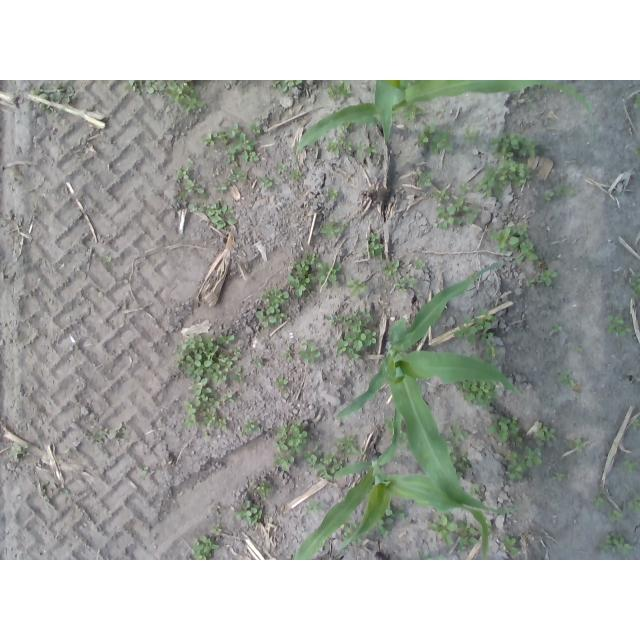Maize: (336, 263, 545, 514), (294, 408, 490, 561), (296, 80, 596, 170)
Weeds: (173, 334, 243, 430), (461, 133, 538, 196), (323, 309, 377, 360), (455, 308, 500, 356), (490, 224, 539, 263), (437, 196, 482, 230), (187, 200, 237, 229), (255, 287, 289, 327), (166, 80, 206, 112), (288, 252, 317, 296), (484, 416, 524, 443), (462, 380, 497, 409), (427, 514, 457, 546), (39, 85, 75, 111), (228, 133, 259, 163), (275, 424, 308, 451), (598, 532, 633, 557), (319, 451, 342, 481), (237, 500, 264, 525), (192, 536, 220, 560), (316, 262, 342, 283), (431, 131, 454, 154), (299, 340, 322, 363), (607, 316, 632, 337), (184, 178, 207, 198), (327, 81, 352, 99), (267, 80, 302, 92), (338, 435, 359, 454), (348, 279, 369, 298), (109, 423, 129, 442), (523, 447, 541, 467), (448, 426, 469, 443), (502, 535, 519, 554), (394, 275, 417, 289), (143, 80, 165, 94), (402, 106, 422, 121), (320, 223, 340, 238), (556, 183, 576, 198), (459, 520, 479, 535), (540, 270, 557, 287), (459, 536, 478, 551), (536, 427, 556, 441), (386, 506, 407, 519), (274, 456, 295, 469), (242, 421, 260, 436), (417, 173, 435, 188), (303, 453, 317, 472), (366, 242, 382, 258), (432, 189, 450, 203), (257, 481, 271, 499), (505, 465, 523, 479), (227, 122, 242, 138), (569, 438, 585, 453), (327, 138, 340, 156), (85, 433, 108, 443), (385, 261, 400, 276), (465, 129, 480, 144), (307, 499, 323, 513), (379, 518, 393, 534), (628, 493, 640, 511), (631, 271, 640, 295), (273, 375, 289, 388), (204, 132, 217, 148), (622, 460, 639, 472), (416, 132, 428, 148), (177, 165, 190, 179), (421, 120, 436, 132), (228, 171, 240, 186), (213, 182, 228, 194), (383, 418, 393, 435), (412, 257, 425, 270), (248, 122, 261, 135), (11, 445, 22, 460), (607, 511, 622, 522), (251, 355, 265, 366), (557, 369, 571, 380), (54, 484, 69, 494), (125, 81, 136, 92), (234, 166, 246, 176), (263, 177, 273, 189), (506, 452, 519, 461), (336, 129, 344, 143), (456, 451, 467, 461), (290, 169, 301, 179), (211, 524, 222, 534), (366, 233, 378, 242), (284, 349, 293, 361), (358, 144, 366, 157), (330, 189, 339, 200), (634, 93, 640, 109), (369, 145, 376, 158), (341, 142, 351, 151), (177, 192, 187, 201), (31, 86, 41, 95), (566, 380, 575, 389), (632, 419, 640, 429), (546, 192, 555, 200), (341, 121, 351, 128), (526, 278, 534, 286), (142, 467, 149, 476), (220, 133, 229, 140), (575, 346, 584, 353), (279, 162, 286, 170), (341, 222, 347, 231), (400, 433, 407, 440), (595, 498, 603, 504), (626, 486, 634, 492), (554, 474, 562, 480), (601, 488, 608, 494), (537, 440, 544, 446), (552, 326, 560, 331), (187, 157, 193, 163), (105, 256, 112, 261), (635, 146, 640, 153), (619, 305, 624, 312), (358, 452, 363, 457), (539, 261, 542, 267)
